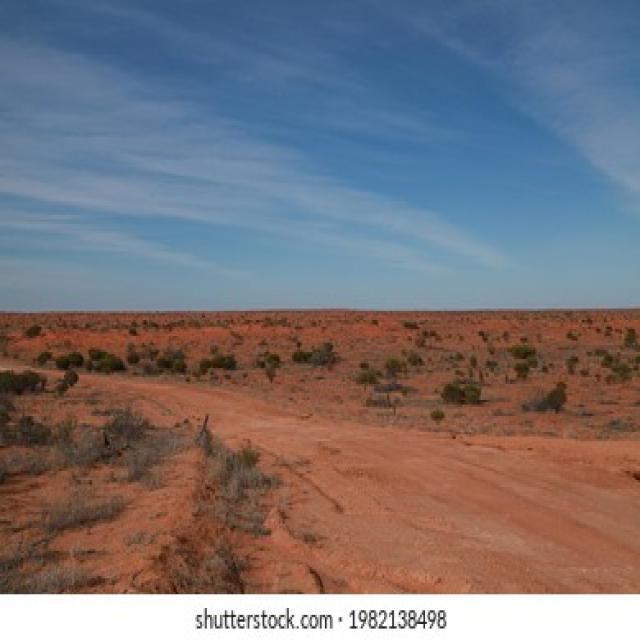Red Soil: (216, 362, 623, 566)
